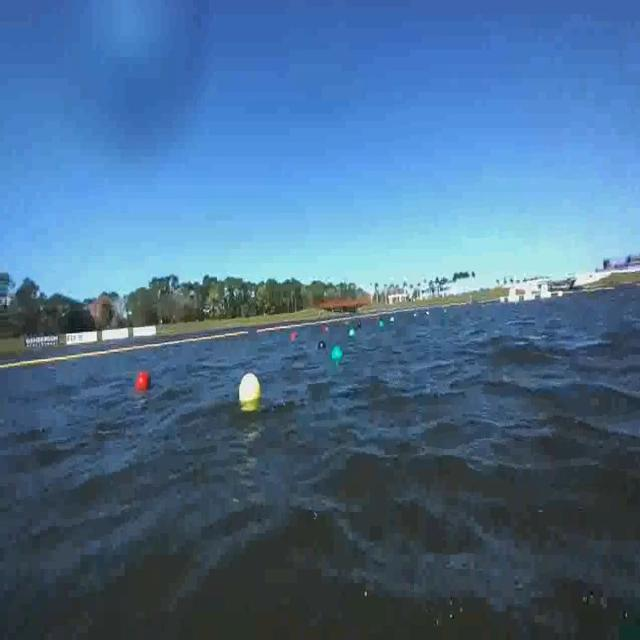black-buoy: (318, 341, 327, 352)
green-buoy: (333, 346, 344, 362)
red-buoy: (136, 371, 154, 392)
yellow-buoy: (239, 372, 261, 408)
